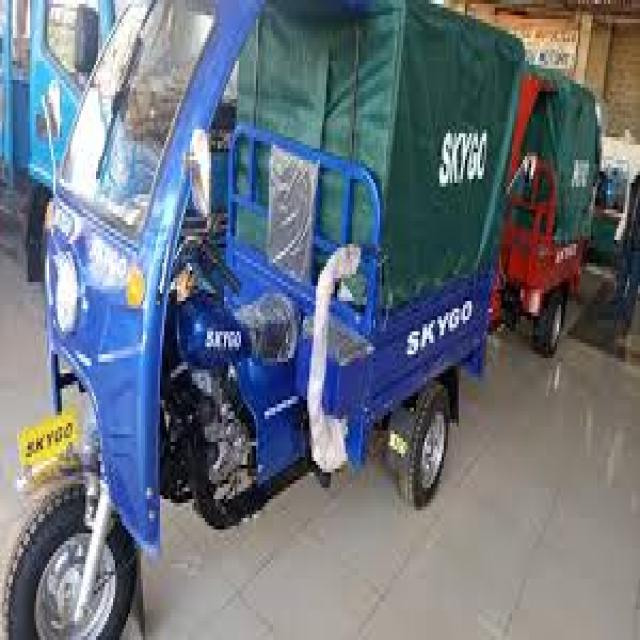tuktuk: (2, 3, 540, 640)
